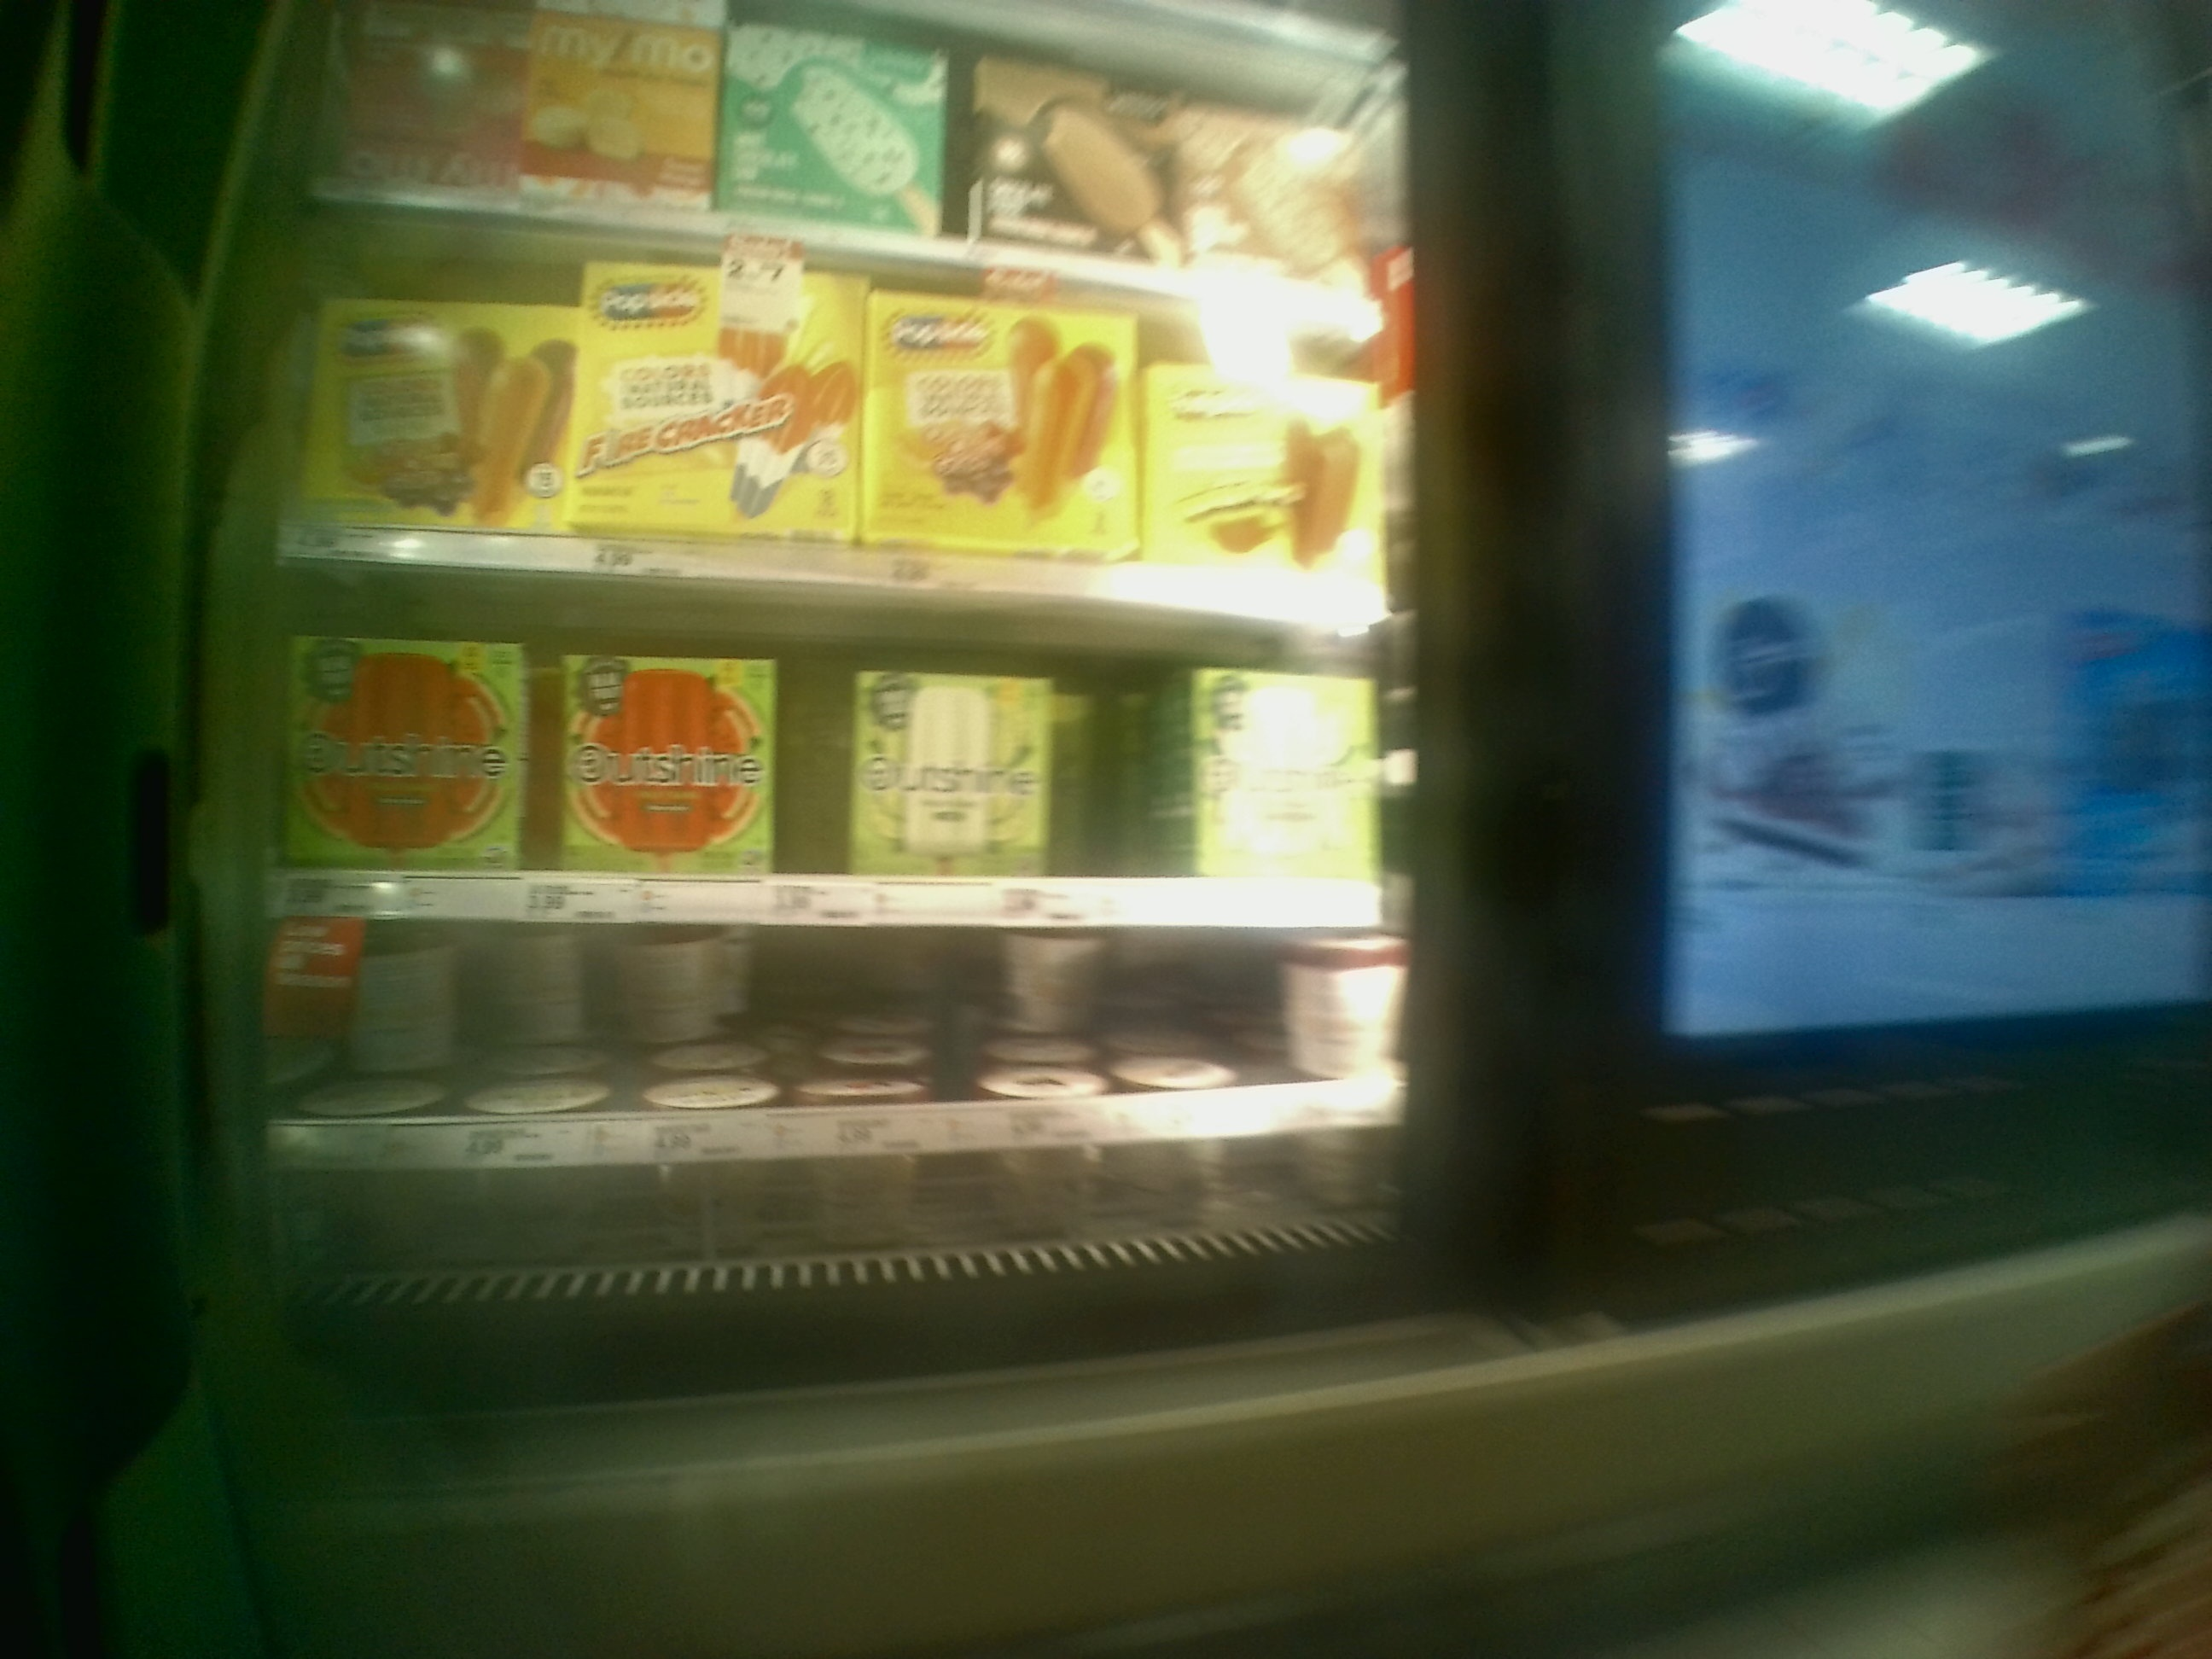ice-cream-shelf: (273, 566, 1385, 915), (273, 915, 1400, 1145)
